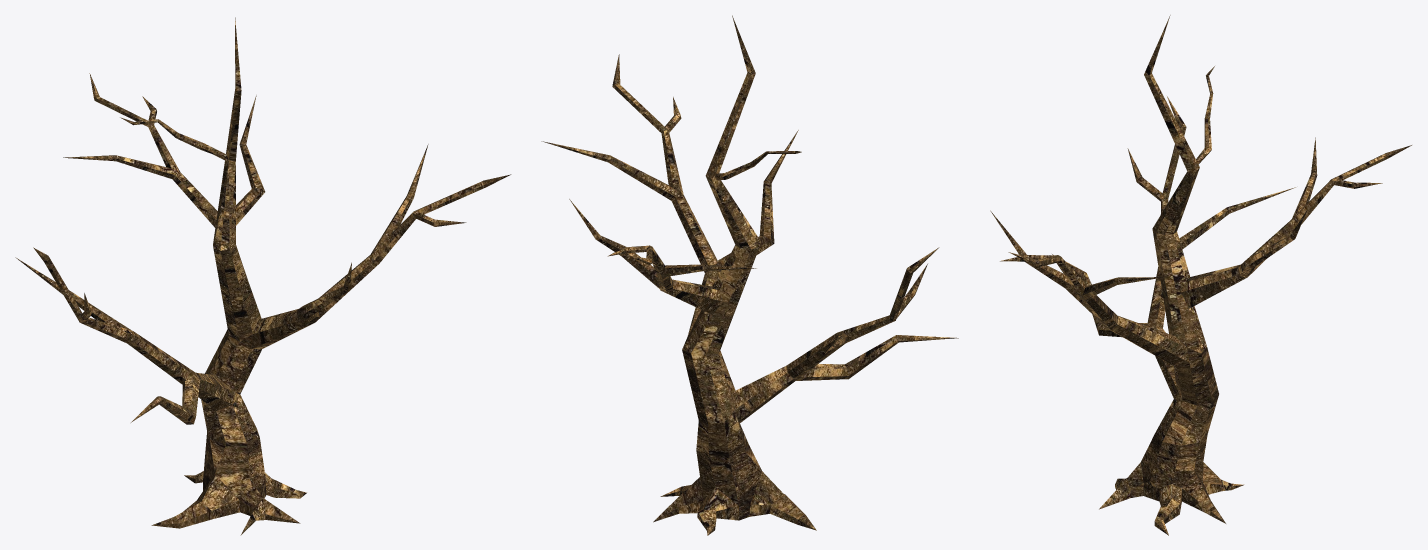
Rendered from arbol.obj.
The picture shows the model from 3 angles, left to right: view 1: azimuth 30°, elevation 25°; view 2: azimuth 150°, elevation 25°; view 3: azimuth 270°, elevation 25°; orthographic projection. The views are drawn at different scales.
Parts seen in each view (by area): view 1: Line01; view 2: Line01; view 3: Line01.
Part boxes in pixels (x1,y1,x2,y2): Line01: (15,17,511,535); Line01: (541,15,958,535); Line01: (990,15,1411,535).
Size of the model in its own units: 6 by 7.15 by 5.62.
Materials: 1 (1 with a texture image).
